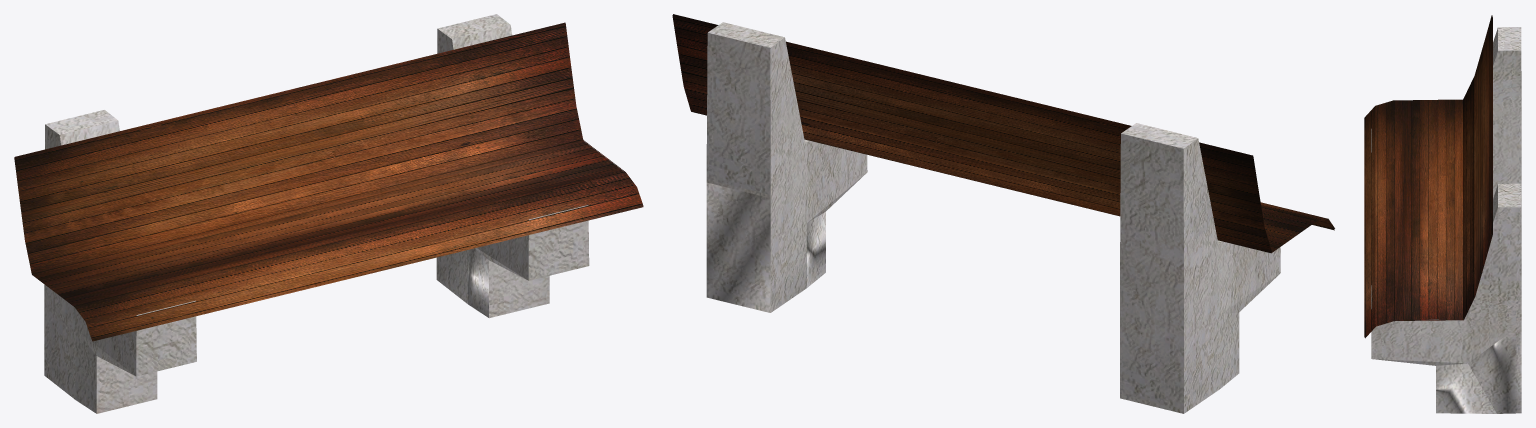
Rendered from bench2_LOD2.FBX.
The picture shows the model from 3 angles, left to right: view 1: azimuth 30°, elevation 25°; view 2: azimuth 150°, elevation 25°; view 3: azimuth 270°, elevation 25°; orthographic projection. The views are drawn at different scales.
Parts seen in each view (by area): view 1: Law2_L2; view 2: Law2_L2; view 3: Law2_L2.
Part boxes in pixels (bbox=[...]): Law2_L2: bbox=[14, 14, 643, 413]; Law2_L2: bbox=[672, 14, 1334, 413]; Law2_L2: bbox=[1364, 15, 1521, 413].
Bounding box in the file's own units: 20.97 × 9.14 × 6.35.
Materials: 1 (1 with a texture image).
